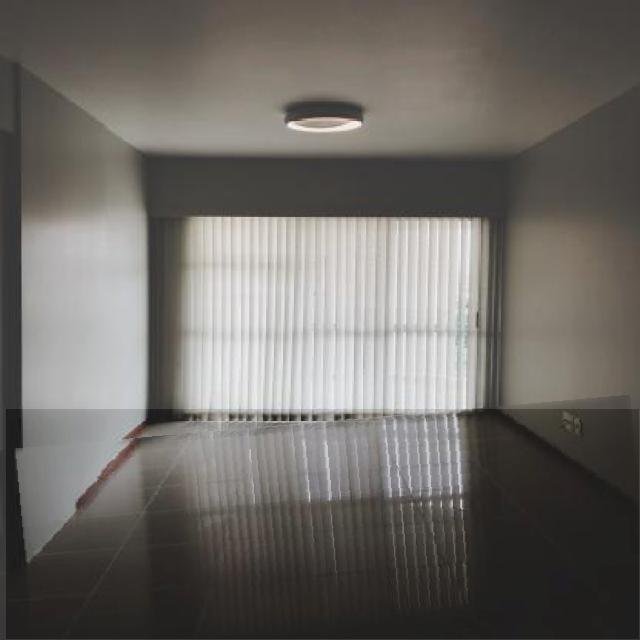floor: (6, 410, 640, 640)
